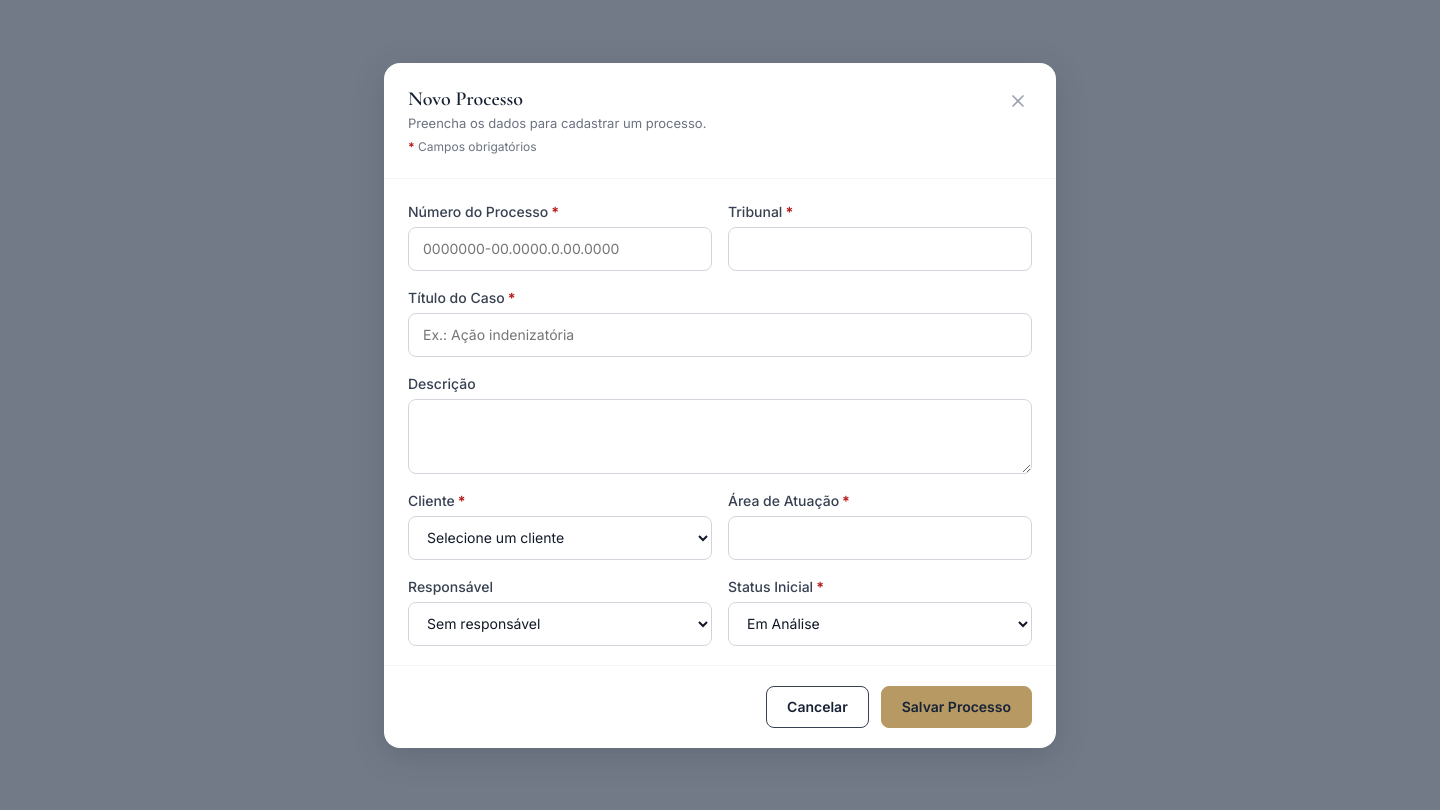
ProcessFormModal › rejeita submissão quando há campos obrigatórios em branco após CNJ válido
The width and height of the screenshot is (1440, 810).
Type "0061234-56.2026.8.26.0100" into the field labelled "Número do Processo".
click(560, 248); type("0061234-56.2026.8.26.0100")  # box [408, 226, 712, 270]
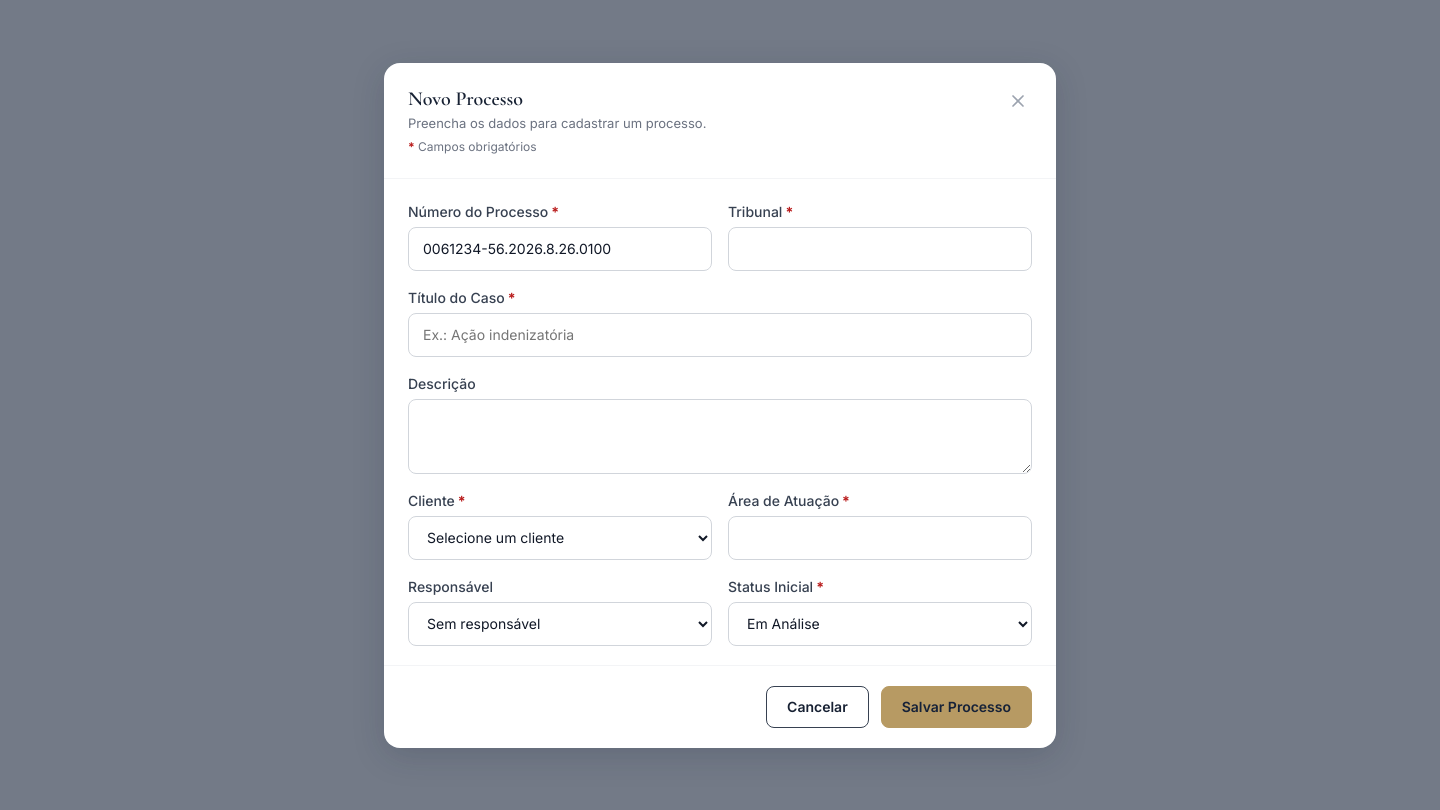
Submit the dialog, box [384, 62, 1056, 748]
(page scrolled)
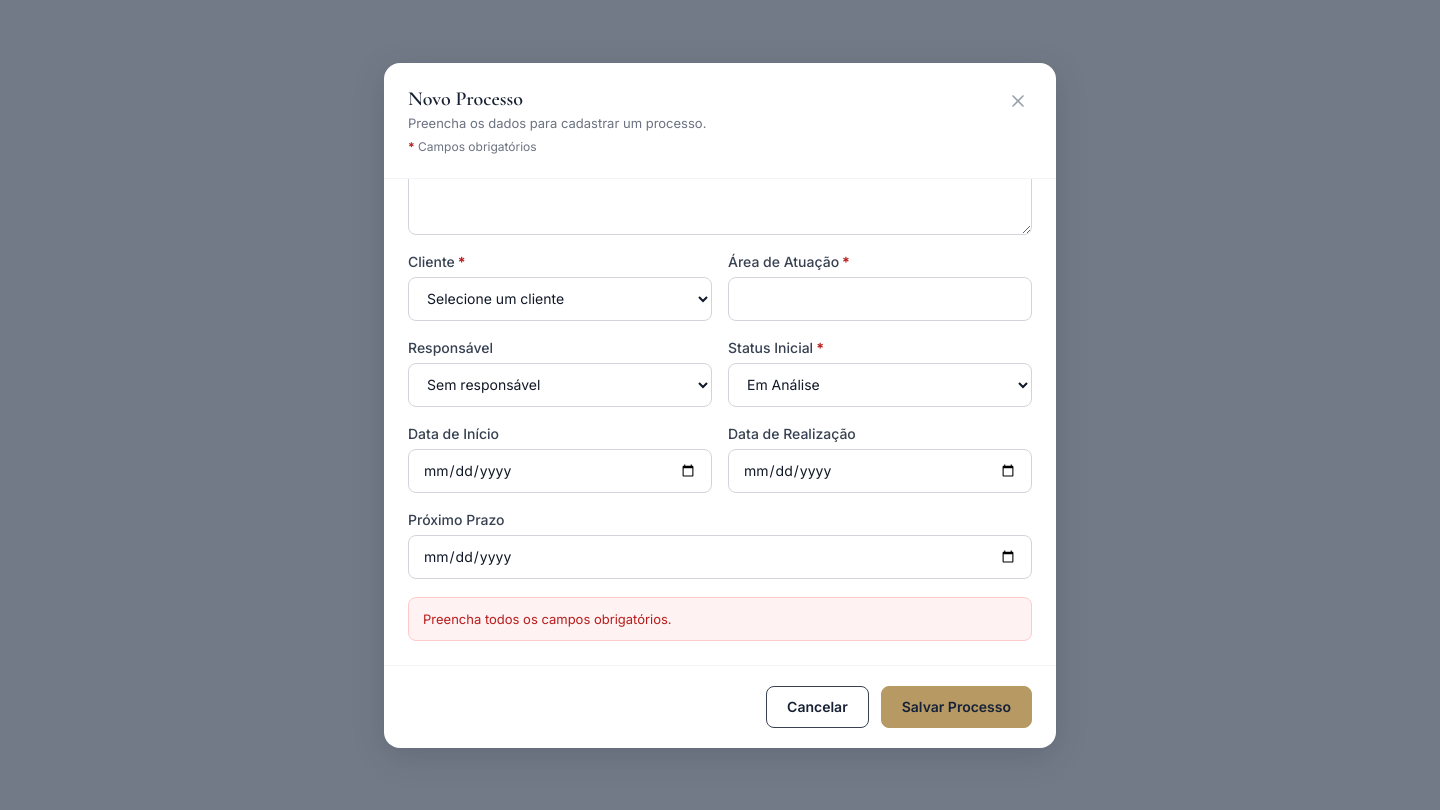
Now the message reads "Preencha todos os campos obrigatórios.", box [423, 610, 672, 626]
